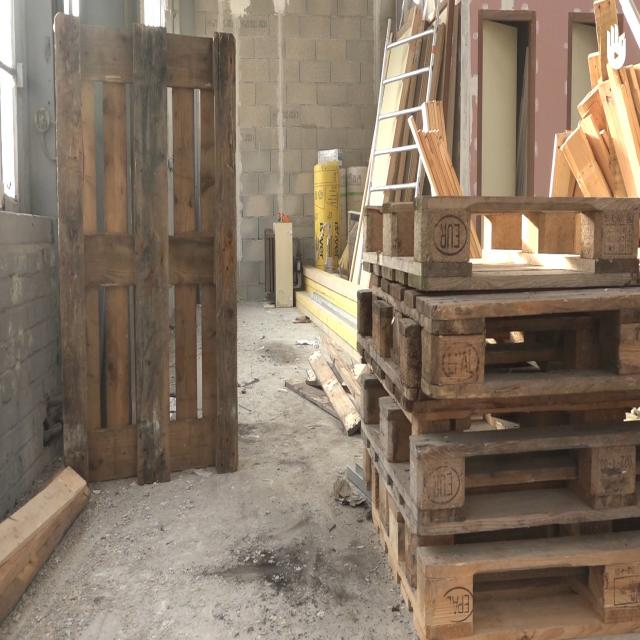Palette: (358, 201, 640, 640), (52, 10, 242, 488)
